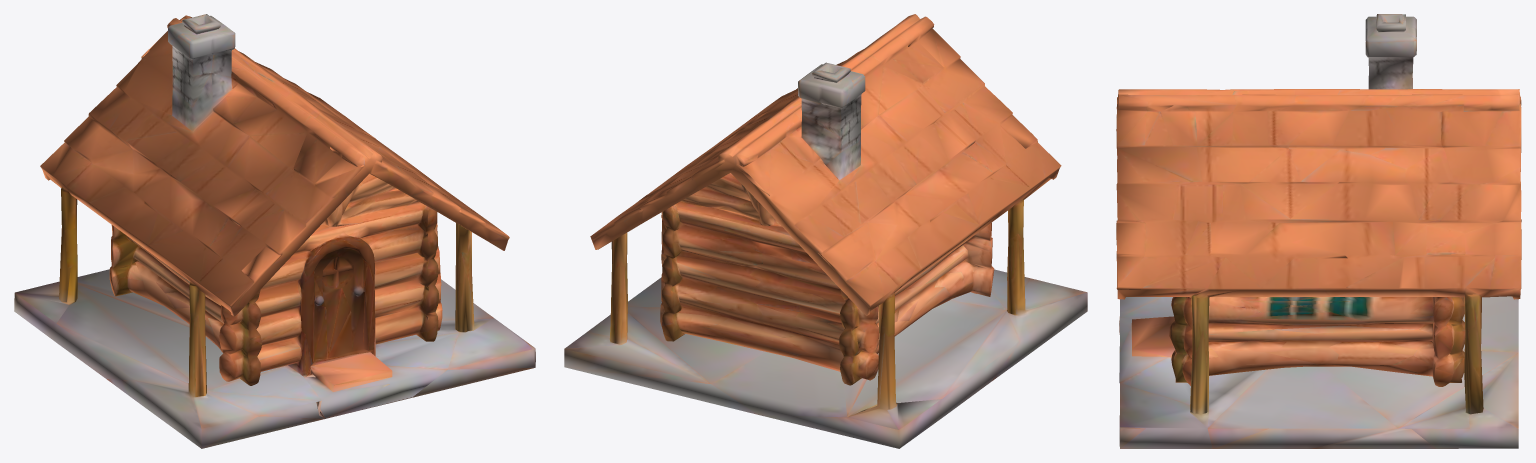
File: cabin.glb
The picture shows the model from 3 angles, left to right: view 1: azimuth 30°, elevation 25°; view 2: azimuth 150°, elevation 25°; view 3: azimuth 270°, elevation 25°; orthographic projection. The views are drawn at different scales.
Size of the model in its own units: 1.91 by 1.66 by 1.89.
Materials: 1 (1 with a texture image).
